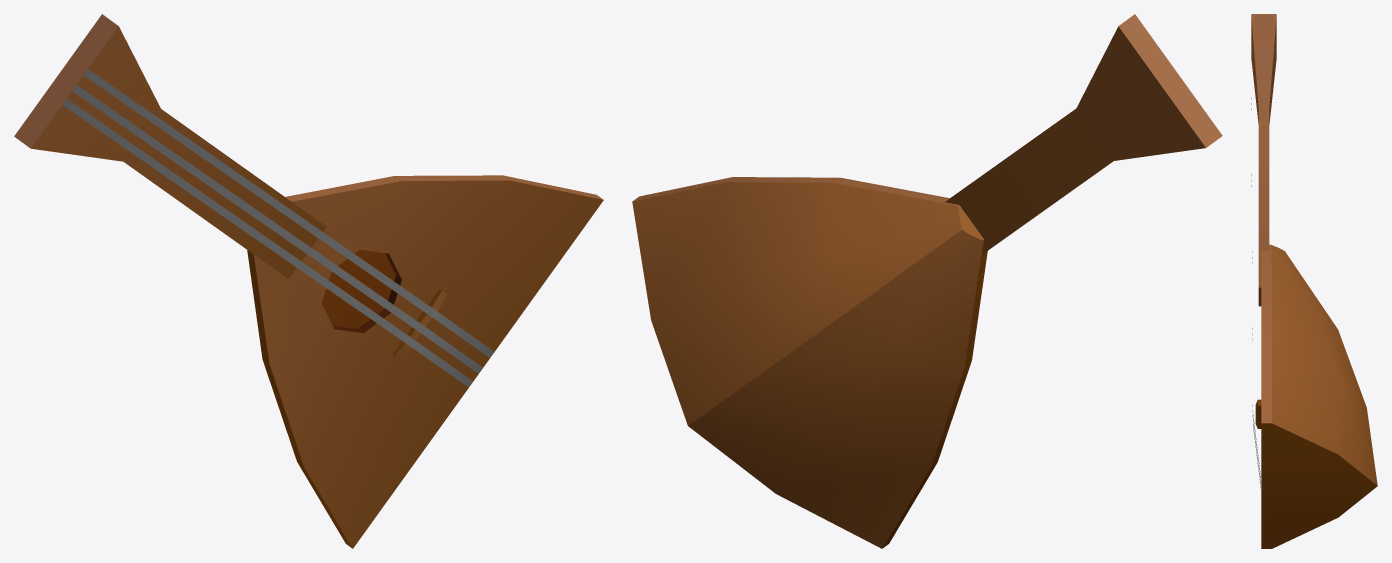
File: SM_Balalaika.fbx
The picture shows the model from 3 angles, left to right: view 1: azimuth 30°, elevation 25°; view 2: azimuth 150°, elevation 25°; view 3: azimuth 270°, elevation 25°; orthographic projection. The views are drawn at different scales.
Visible parts, largest first — view 1: SM_Balaika; view 2: SM_Balaika; view 3: SM_Balaika.
Boxes of the visible parts, x1,y1,x2,y2 form: SM_Balaika: (14, 14, 603, 548); SM_Balaika: (632, 14, 1222, 548); SM_Balaika: (1251, 14, 1377, 548).
Size of the model in its own units: 209 by 202 by 51.98.
